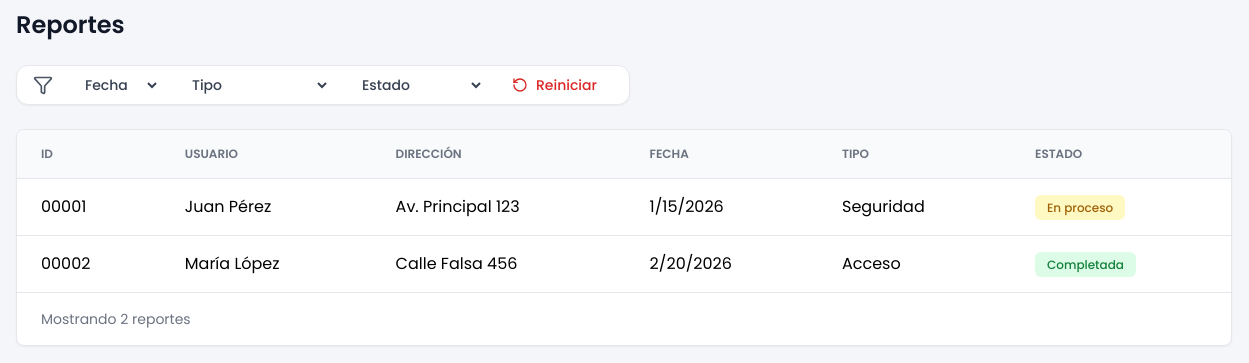
Scenario: Reportes › reiniciar filtros clears an active tipo filter
Expected: the text "Juan Pérez" is shown, [161,178,372,236]
Select "Acceso" in the 2nd dropdown showing "Tipo" at point(251, 85), box [172,66,330,104]
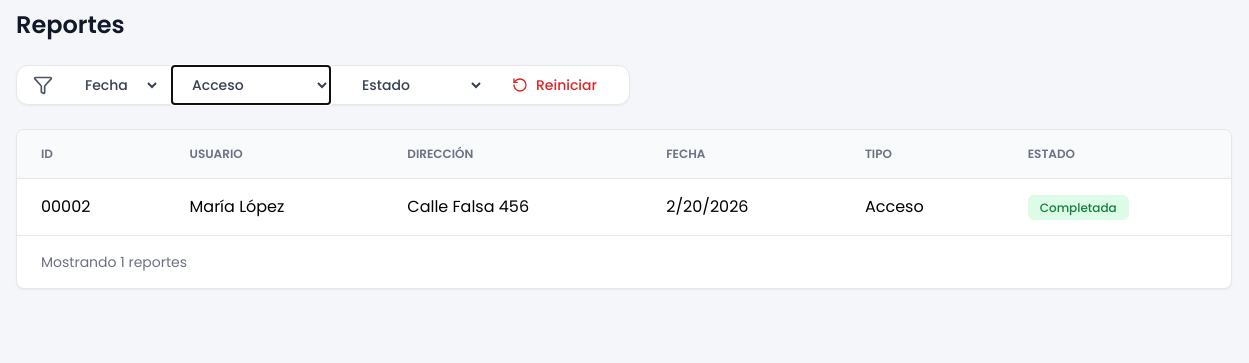
Now the text "Juan Pérez" is gone
Click the button "Reiniciar".
click(554, 85)  # box [496,67,613,103]
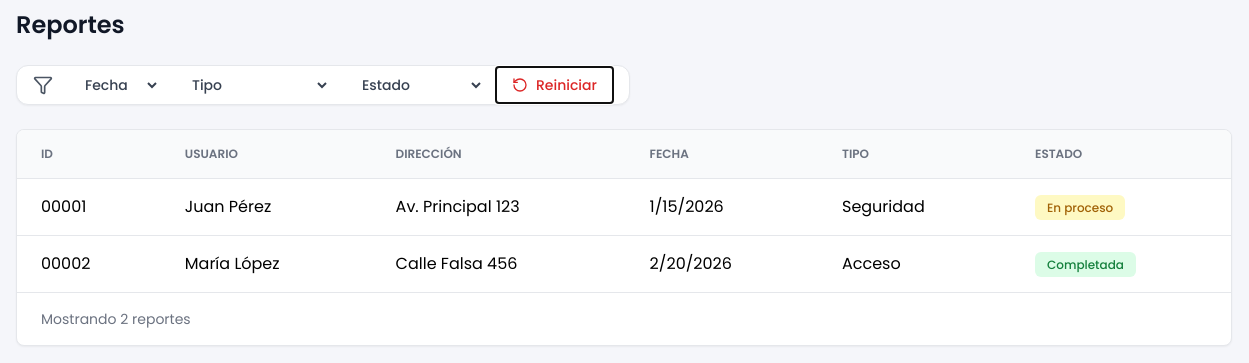
Expected: the text "María López" is shown, [161,236,372,292]
Now the text "Juan Pérez" is shown, box [161,178,372,236]
